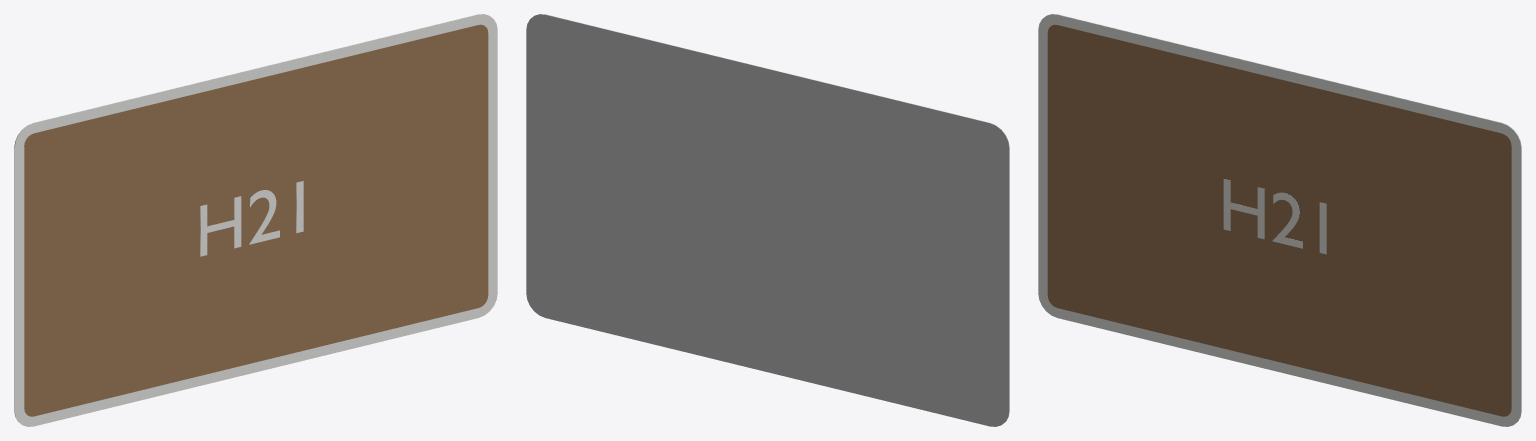
3 views of the same model, side by side, from view 1: azimuth 30°, elevation 25°; view 2: azimuth 150°, elevation 25°; view 3: azimuth 330°, elevation 25° (orthographic).
Visible parts, largest first — view 1: H21_fond01, H21_cadre00, H21_txt02, H21_dos; view 2: H21_dos; view 3: H21_fond01, H21_cadre00, H21_txt02, H21_dos.
Part boxes in pixels (x1=…): H21_fond01: x1=24, y1=24, x2=488, y2=416; H21_cadre00: x1=14, y1=14, x2=497, y2=426; H21_txt02: x1=200, y1=181, x2=303, y2=256; H21_dos: x1=14, y1=14, x2=487, y2=420; H21_dos: x1=526, y1=14, x2=1009, y2=426; H21_fond01: x1=1047, y1=24, x2=1511, y2=416; H21_cadre00: x1=1038, y1=14, x2=1521, y2=426; H21_txt02: x1=1223, y1=179, x2=1326, y2=254; H21_dos: x1=1048, y1=14, x2=1521, y2=420.
Size of the model in its own units: 1 by 0.6 by 0.0025.
